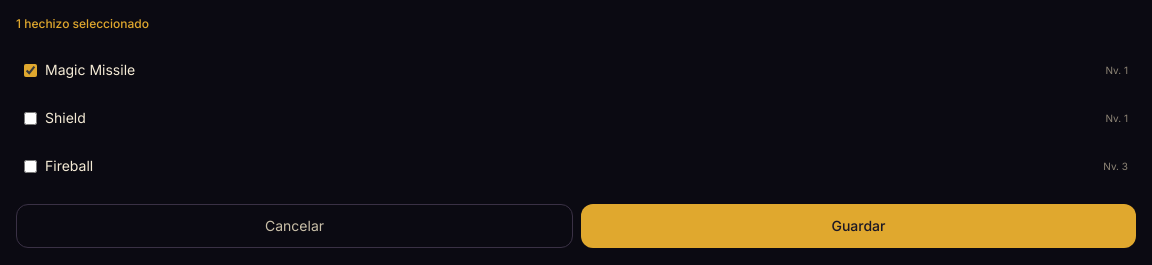
Test: SpellKnownEditor › T3: selected count is displayed
expect the text "1 hechizo seleccionado" is shown: met, box [16, 16, 149, 31]
Note: Toggle another
Click the checkbox labelled "Shield" at (30,118), box [24, 112, 37, 124]
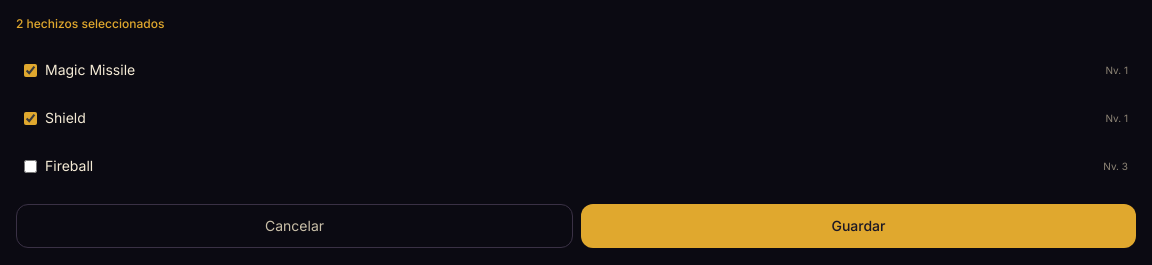
expect the text "2 hechizos seleccionados" is shown: met, box [16, 16, 164, 31]
